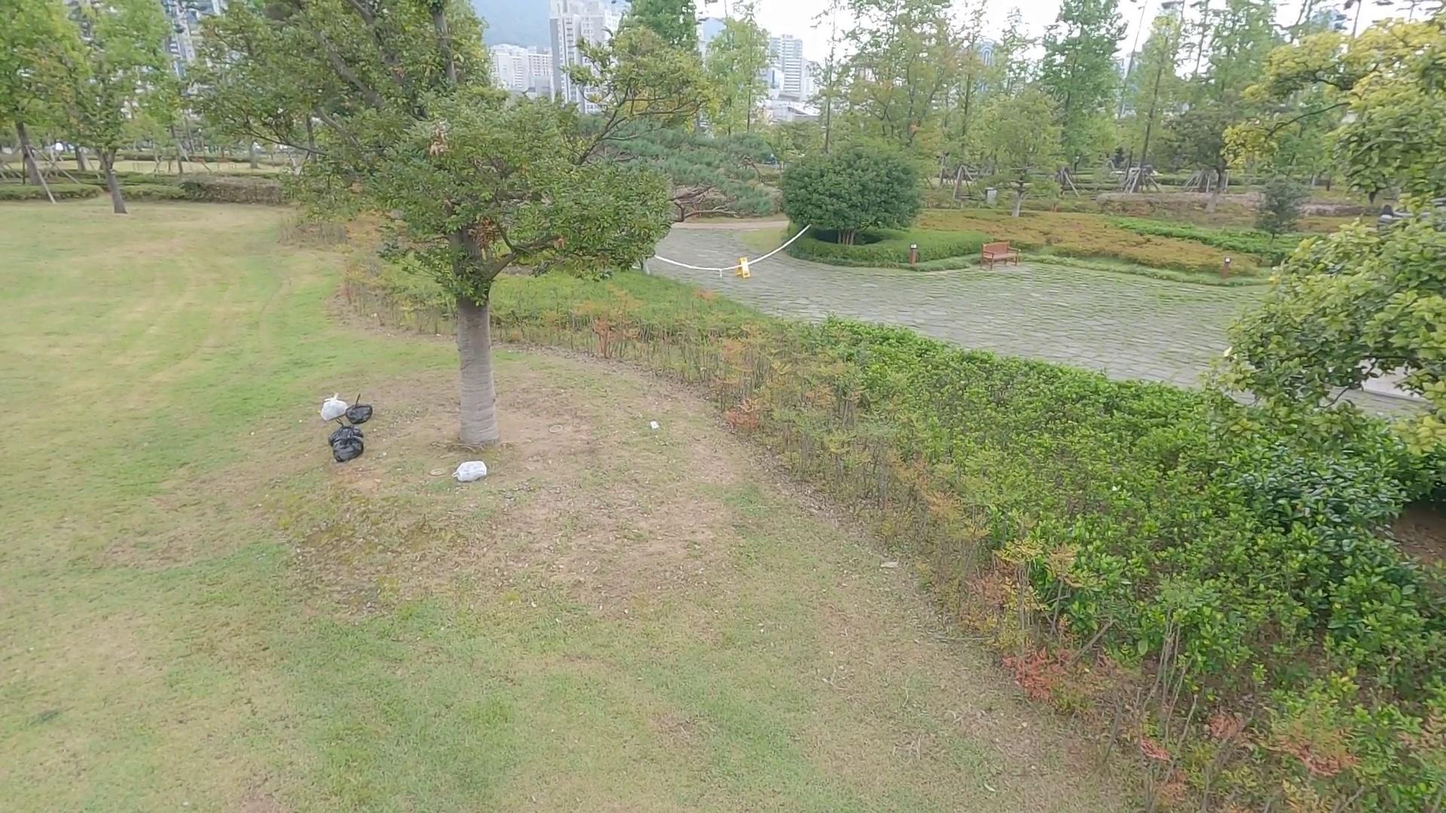trash: (340, 391, 375, 426), (318, 387, 351, 424), (328, 419, 365, 448), (330, 436, 369, 463), (452, 463, 493, 486), (646, 415, 667, 437)
